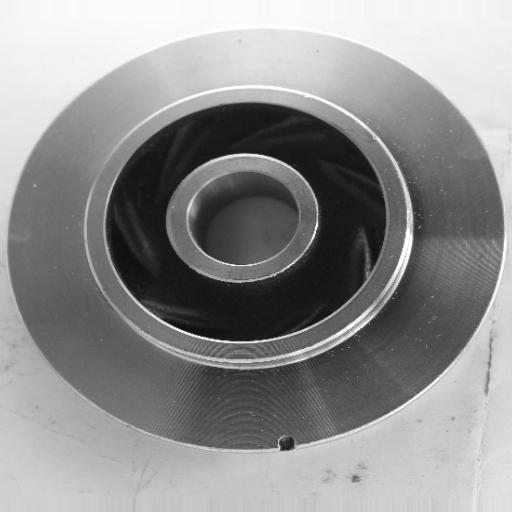pit: (265, 425, 306, 462)
unpolished_casting: (8, 29, 510, 454)
